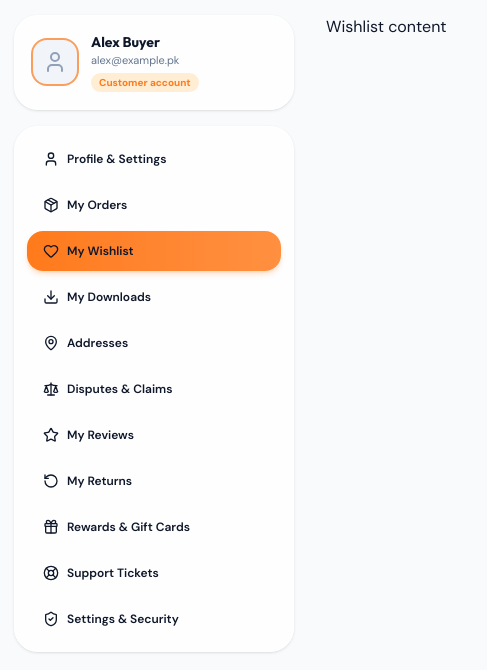
Test: AccountLayout › keeps the same sidebar mounted while the content swaps (wishlist -> downloads)
The image size is (487, 670).
Expected: the text "Wishlist content" is shown, top-left (326, 16), bottom-right (447, 37)
Click the link "My Downloads" at (97, 296), box top-left (43, 288), bottom-right (151, 304)
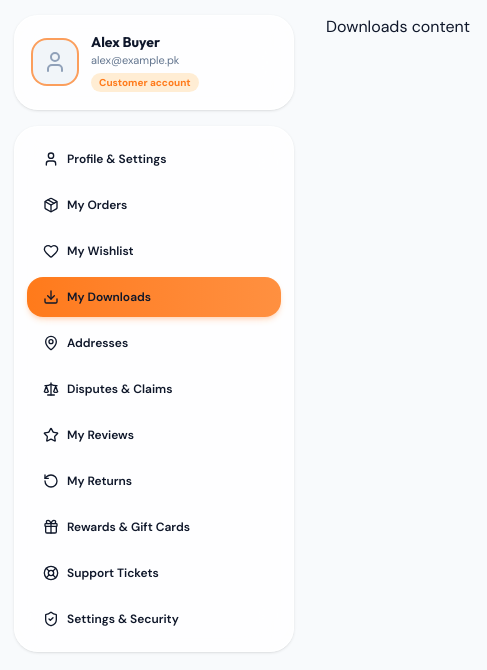
Expected: the text "Downloads content" is shown, top-left (326, 16), bottom-right (470, 37)
Expected: the text "Wishlist content" is gone
